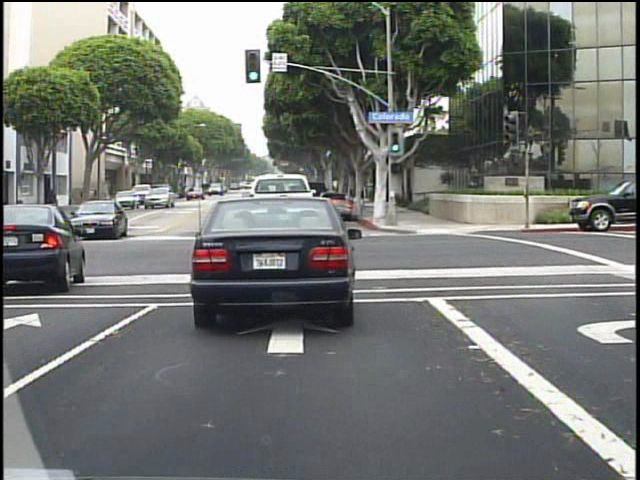person: (44, 186, 62, 219)
